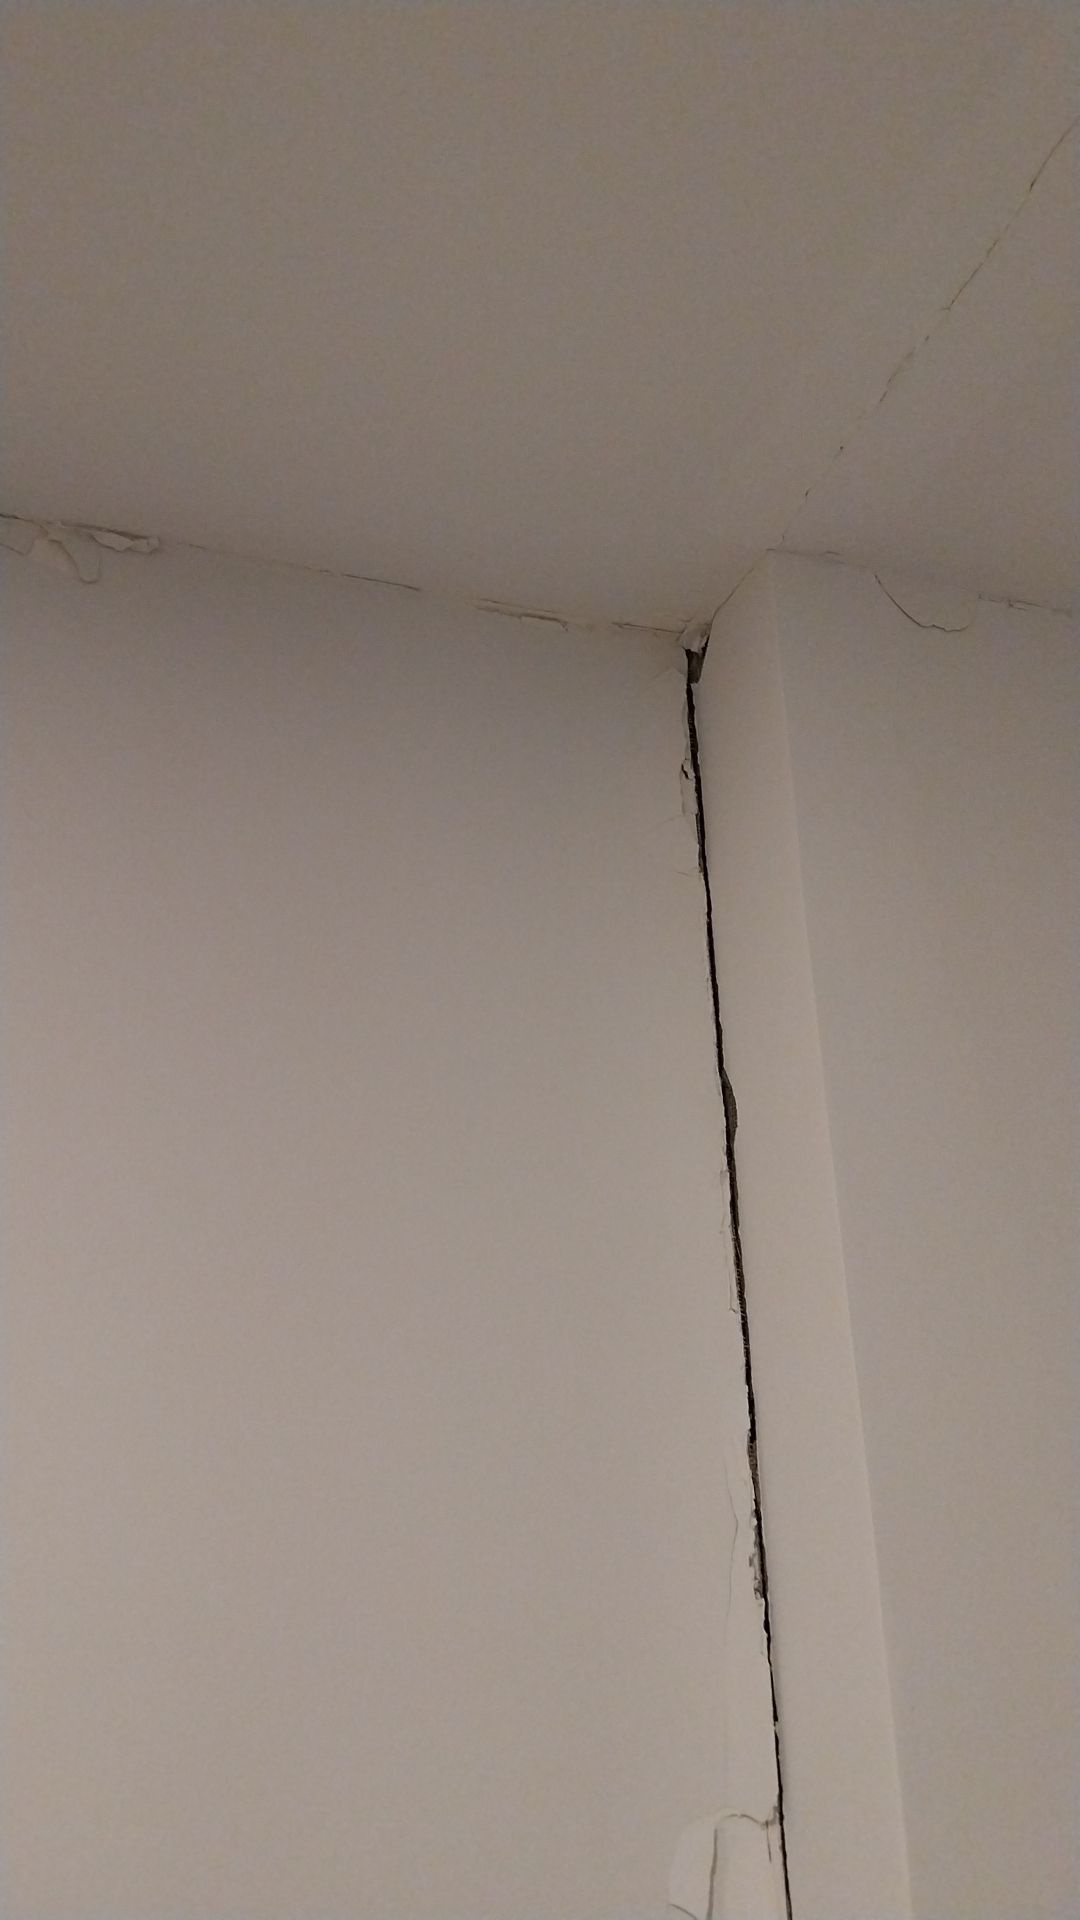Low: (615, 626, 869, 1920)
